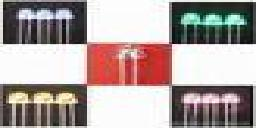LED: (178, 9, 249, 43), (13, 5, 73, 41), (4, 89, 82, 112), (178, 89, 252, 113), (116, 47, 151, 84)
